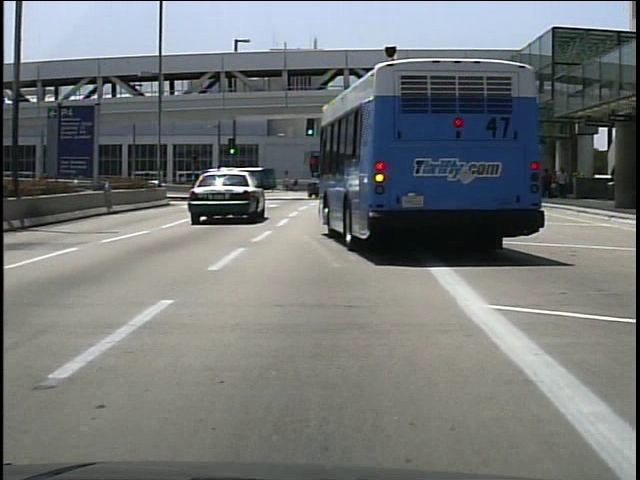person: (554, 166, 573, 200), (280, 176, 291, 194), (291, 177, 301, 196)
